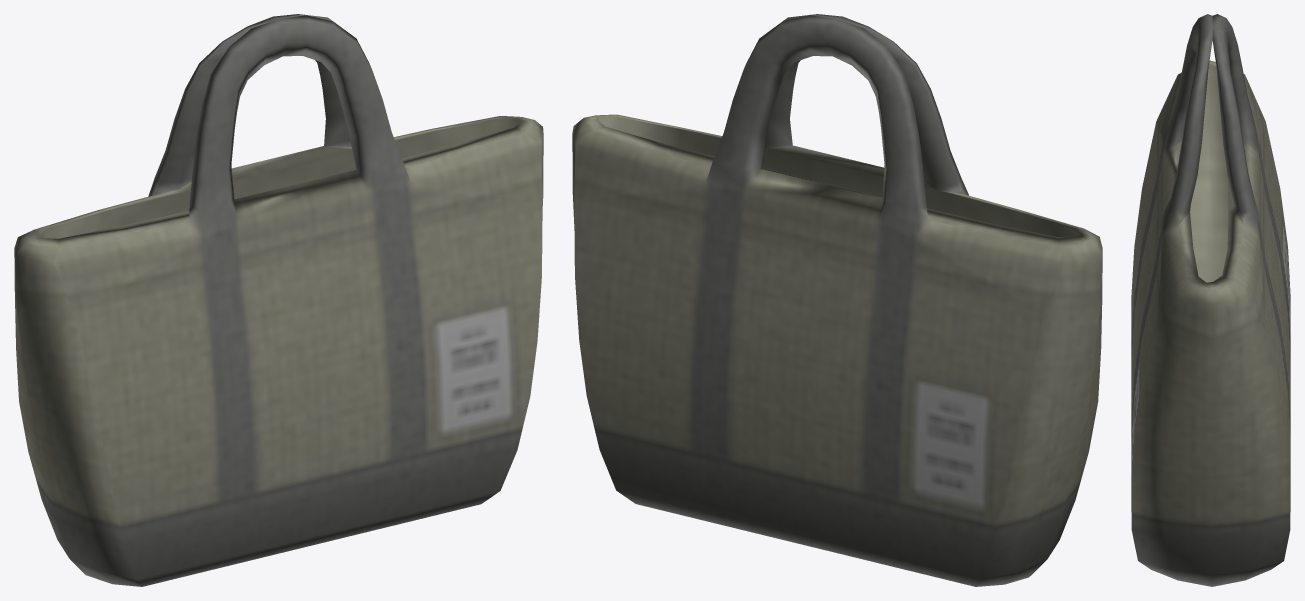
File: bag.fbx
3 views of the same model, side by side, from view 1: azimuth 30°, elevation 25°; view 2: azimuth 150°, elevation 25°; view 3: azimuth 270°, elevation 25° (orthographic). The views are drawn at different scales.
Visible parts, largest first — view 1: BodyModel__mTool; view 2: BodyModel__mTool; view 3: BodyModel__mTool.
Boxes of the visible parts, x1,y1,x2,y2 form: BodyModel__mTool: [14, 14, 543, 586]; BodyModel__mTool: [572, 14, 1102, 586]; BodyModel__mTool: [1131, 14, 1290, 586].
Bounding box in the file's own units: 418 × 386 × 118.
